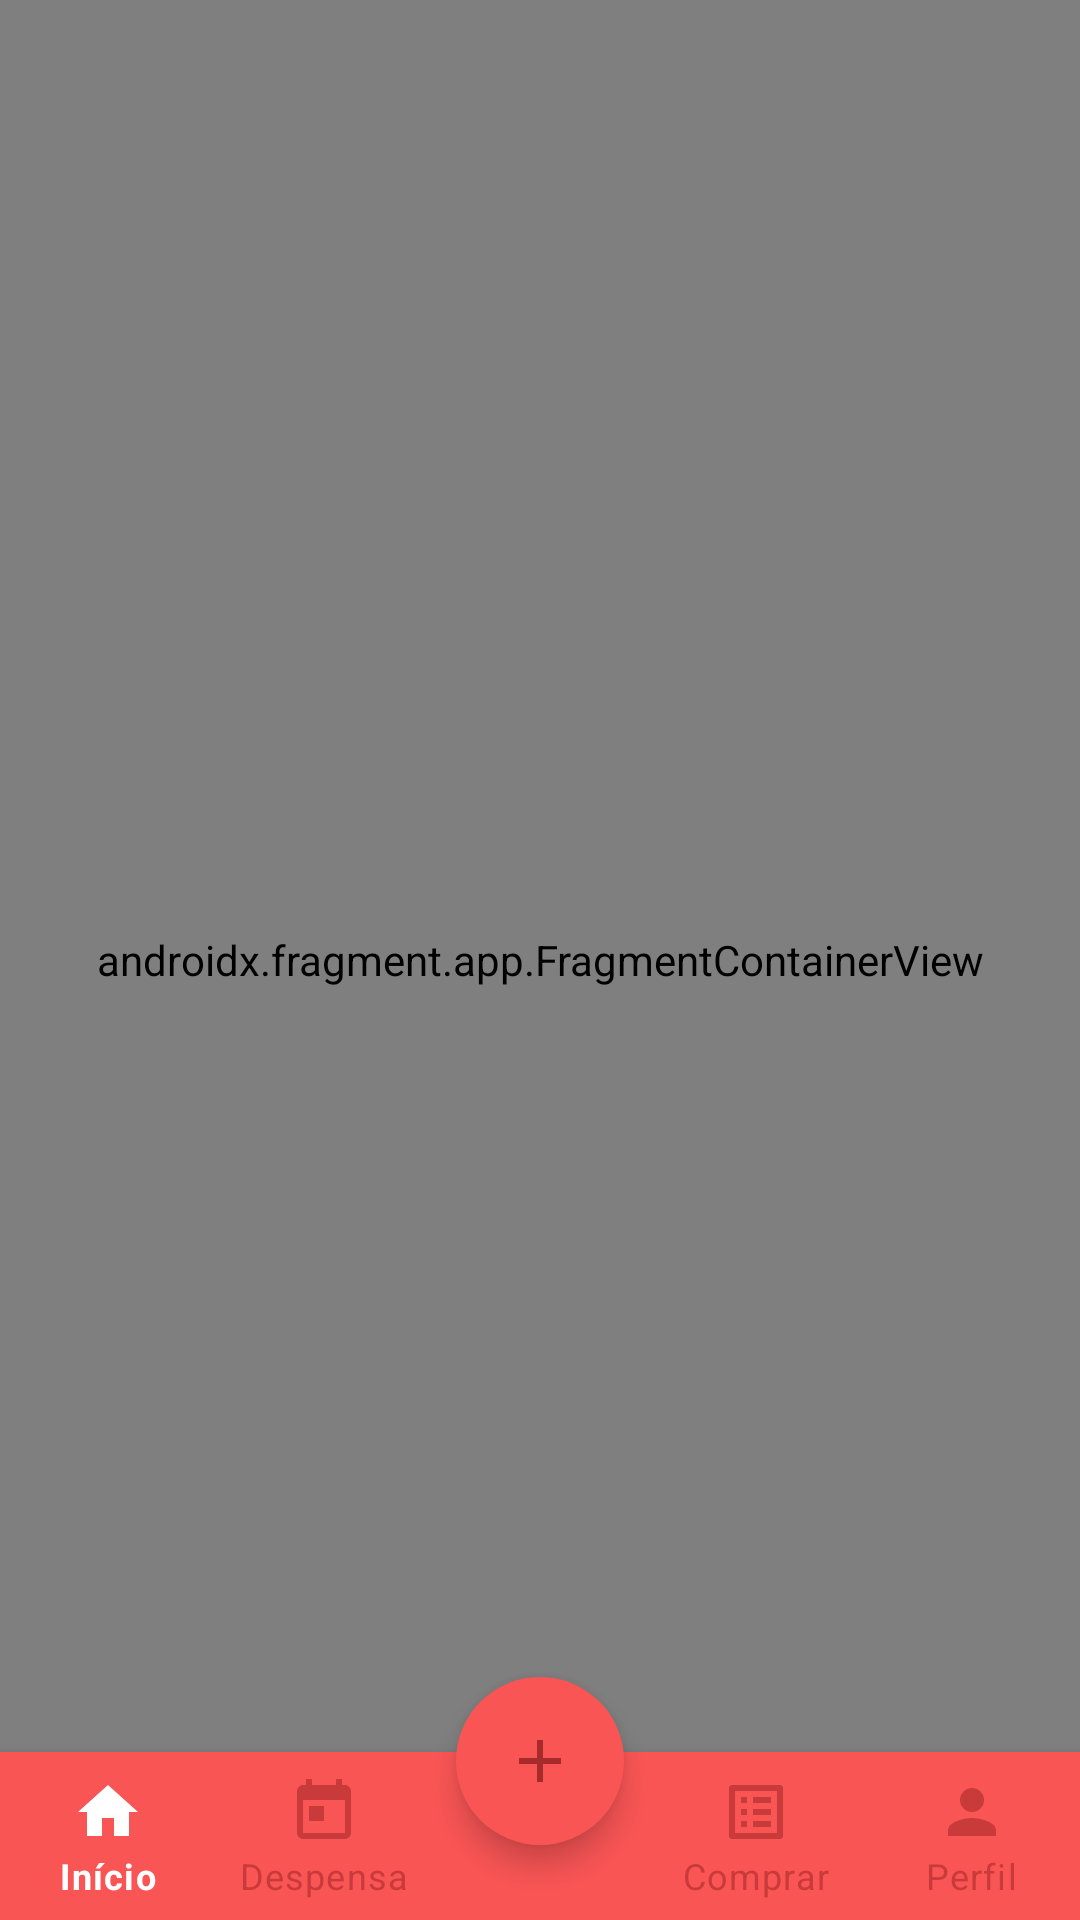

Screen size 1080w x 1920h. Icon name, then its center in pixels as (x,y):
add: (540,1761)
